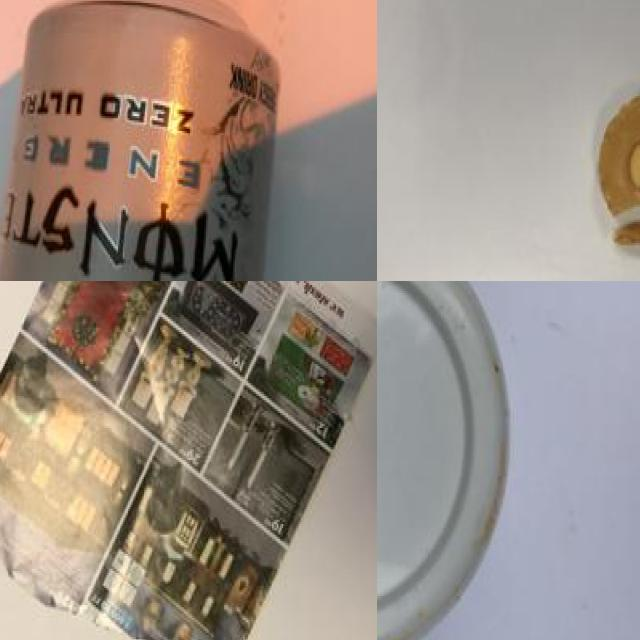compost: (574, 59, 640, 262)
paper: (0, 281, 371, 640)
plastic: (0, 0, 281, 281), (377, 281, 508, 640)
